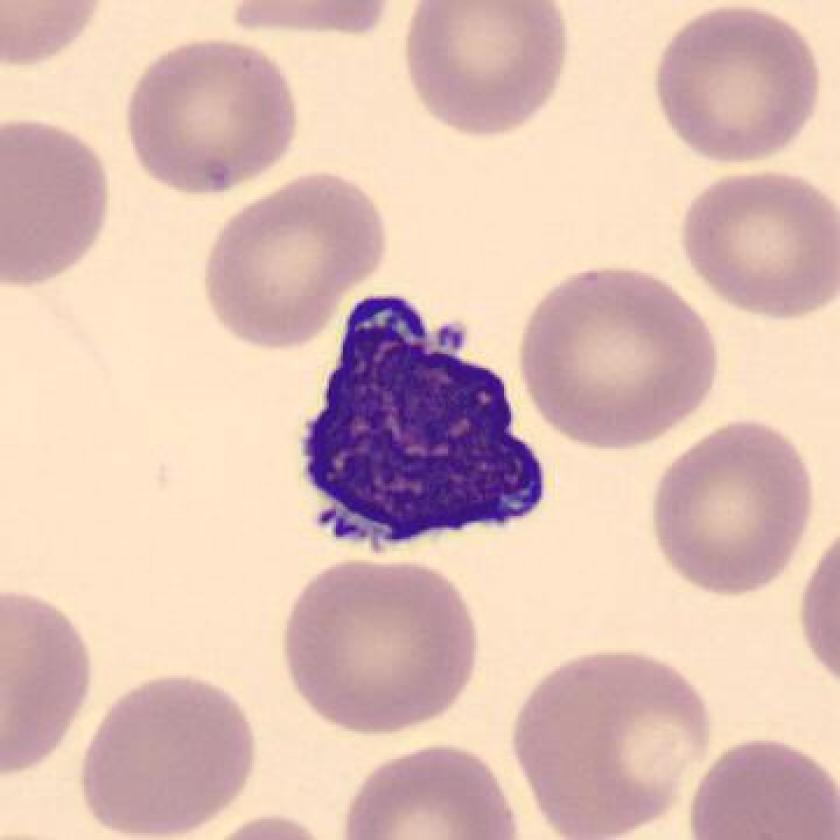lymphocyte: (291, 286, 564, 570)
